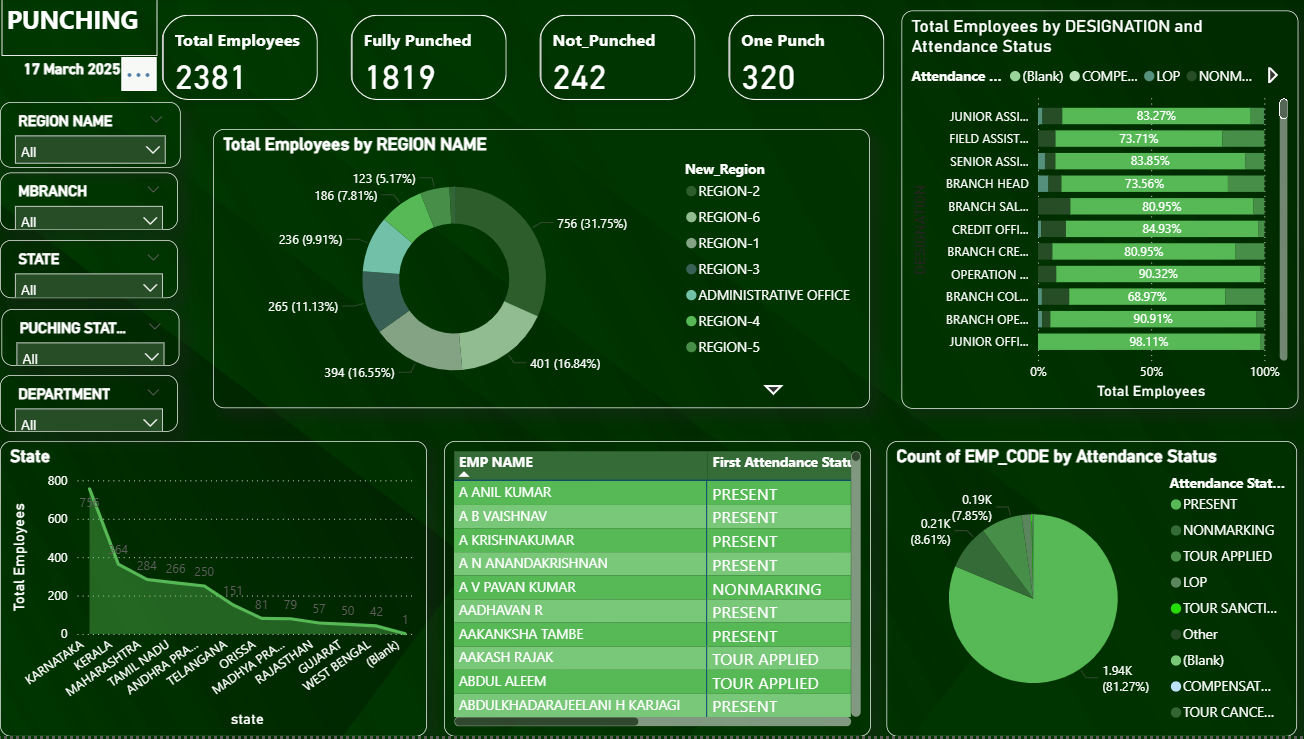

What the dashboard file says about the page in this screenshot:
{"tool":"powerbi","page":{"name":"Page 1","canvas":[1280,720],"ordinal":0},"visuals":[{"type":"cardVisual","fields":{"Data":["Employee_Details.Total Employees","Employee_Details.Fully Punched","Employee_Details.Not_Punched","Employee_Details.One Punch"]},"box":[140,0,738,117.7],"z":0},{"type":"lineChart","title":"State","fields":{"Category":["Table1.state"],"Y":["Employee_Details.Total Employees"]},"box":[0,432,416,288],"z":1000},{"type":"pivotTable","fields":{"Rows":["Table1.EMP NAME"],"Values":["Table1.Attendance Status","Table1.Punching_Status"]},"box":[432,432,416,288],"z":2000},{"type":"pieChart","fields":{"Category":["Table1.Attendance Status"],"Y":["Employee_Details.EMP_CODE"]},"box":[864,432,400,288],"z":3000},{"type":"slicer","fields":{"Values":["Employee_Details.REGION"]},"box":[0,102,176,64],"z":4000},{"type":"slicer","fields":{"Values":["Table1.MBRANCH"]},"box":[0,171.6,173.3,56],"z":5000},{"type":"slicer","fields":{"Values":["Employee_Details.STATE"]},"box":[0,236.4,173.3,56.7],"z":6000},{"type":"donutChart","title":"Total Employees by REGION NAME","fields":{"Category":["Table1.New_Region"],"Y":["Employee_Details.Total Employees"]},"box":[208,128,640,272],"z":7000},{"type":"textbox","box":[0.9,0.7,152.7,55.7],"z":8000},{"type":"hundredPercentStackedBarChart","title":"Total Employees by DESIGNATION and Attendance Status","fields":{"Category":["Table1.DESIGNATION"],"Series":["Table1.Attendance Status"],"Y":["Employee_Details.Total Employees"]},"box":[878.9,13.4,386.5,388.1],"z":9000},{"type":"slicer","fields":{"Values":["Table1.Punching_Status"]},"box":[1.6,304.4,173.3,55.1],"z":10000},{"type":"card","fields":{"Values":["Table1.DAY"]},"box":[0,54.8,139.8,34],"z":11000},{"type":"slicer","fields":{"Values":["Employee_Details.DEPARTMENT"]},"box":[0,367.6,173.3,55.1],"z":12000}]}

Visuals, with their boxes in screenshot pixels (x1, y1, x2, y2), scaled from the page's 1280x720 canvas onto the 1304x739 screenshot:
cardVisual - Employee_Details.Total Employees x Employee_Details.Fully Punched: (left=143, top=0, right=894, bottom=121)
"State" lineChart: (left=0, top=443, right=424, bottom=738)
pivotTable - Table1.EMP NAME x Table1.Attendance Status: (left=440, top=443, right=864, bottom=738)
pieChart - Table1.Attendance Status x Employee_Details.EMP_CODE: (left=880, top=443, right=1288, bottom=738)
slicer - Employee_Details.REGION: (left=0, top=105, right=179, bottom=170)
slicer - Table1.MBRANCH: (left=0, top=176, right=177, bottom=234)
slicer - Employee_Details.STATE: (left=0, top=243, right=177, bottom=301)
"Total Employees by REGION NAME" donutChart: (left=212, top=131, right=864, bottom=411)
textbox: (left=1, top=1, right=156, bottom=58)
"Total Employees by DESIGNATION and Attendance Status" hundredPercentStackedBarChart: (left=895, top=14, right=1289, bottom=412)
slicer - Table1.Punching_Status: (left=2, top=312, right=178, bottom=369)
card - Table1.DAY: (left=0, top=56, right=142, bottom=91)
slicer - Employee_Details.DEPARTMENT: (left=0, top=377, right=177, bottom=434)
